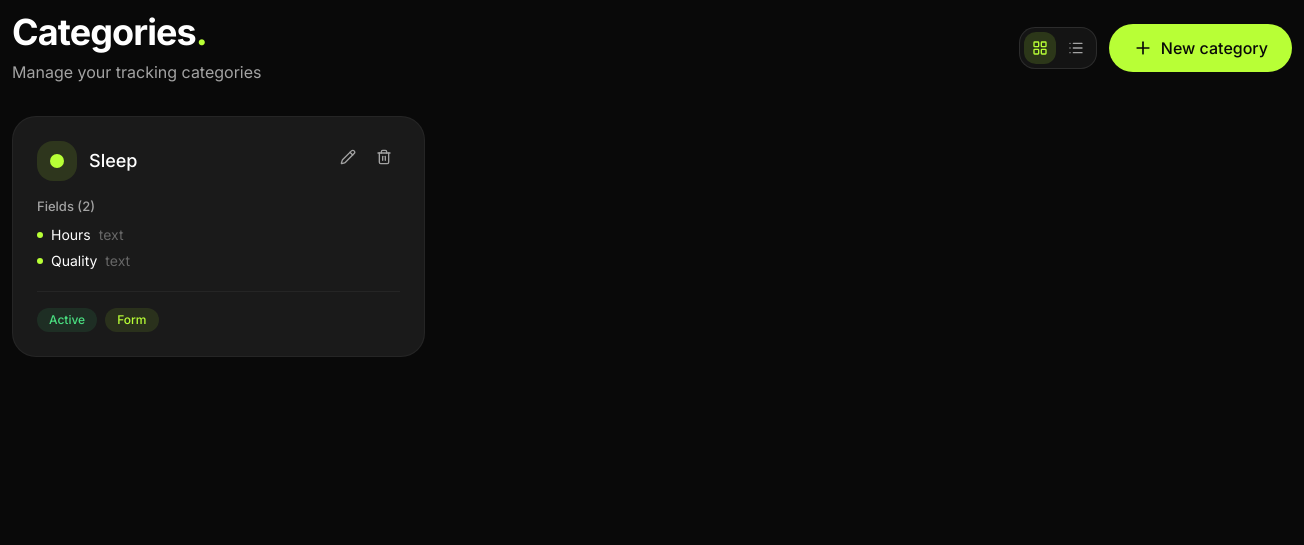
/categories (desktop) › has nowhere to go at either end of the field list
The image size is (1304, 545).
Expected: the button named "Card view" is shown, [1024,32,1056,64]
Step 1. Click the button named "Edit category" → (348, 157), box [332,141,364,173]
(page scrolled)
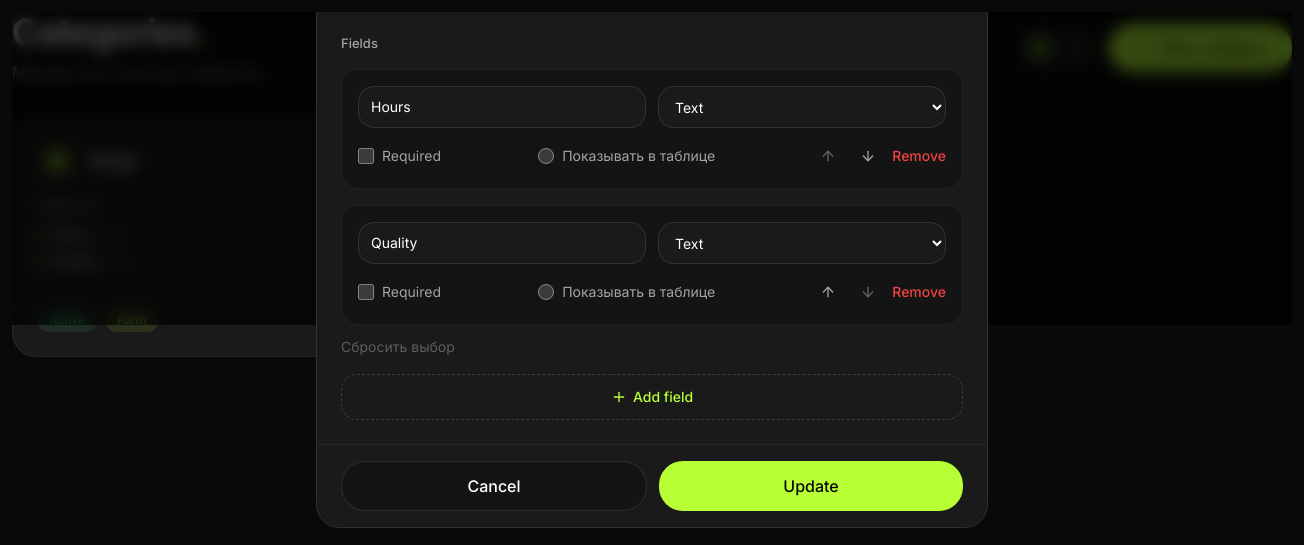
Expected: the button named "Move field 1 up" is disabled, [812,140,844,172]
Expected: the button named "Move field 2 down" is disabled, [852,276,884,308]
Expected: the button named "Move field 2 up" is enabled, [812,276,844,308]
